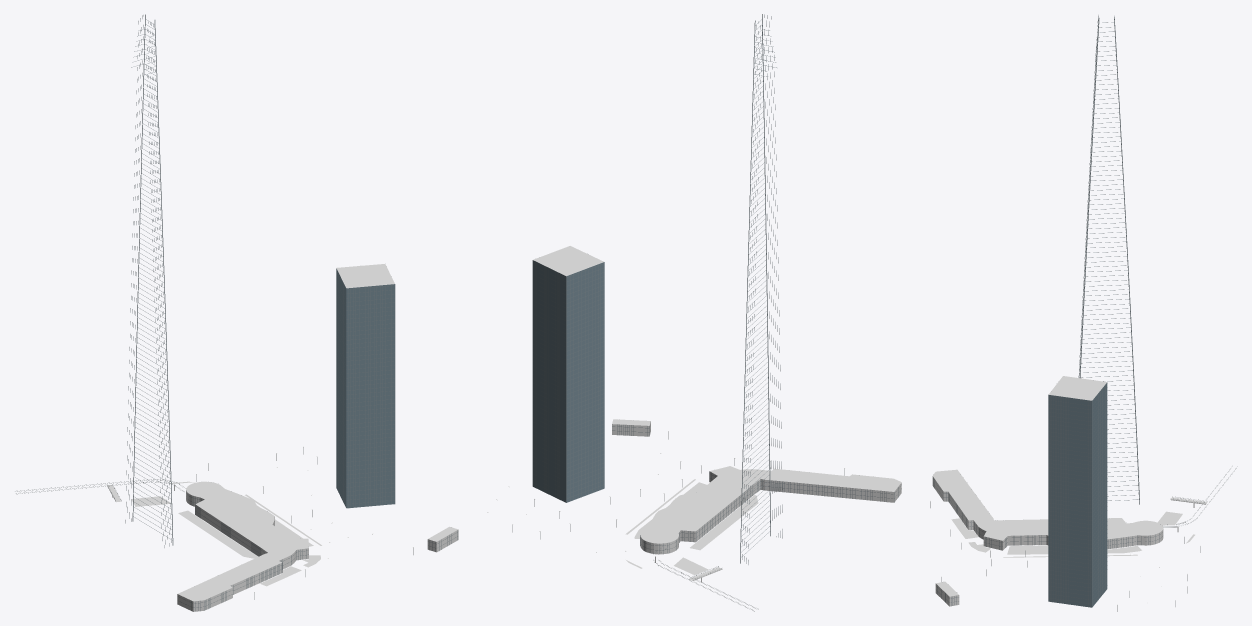
The picture shows the model from 3 angles, left to right: view 1: azimuth 30°, elevation 25°; view 2: azimuth 150°, elevation 25°; view 3: azimuth 270°, elevation 25°; orthographic projection. The views are drawn at different scales.
Parts seen in each view (by area): view 1: 3_-3_超高层蓝灰幕墙, 3_-3_城市金属细框, 3_-3_v02 深灰屋面, 3_-3_v02 米白石材, 3_-3_v02 草地; view 2: 3_-3_超高层蓝灰幕墙, 3_-3_城市金属细框, 3_-3_v02 深灰屋面, 3_-3_v02 米白石材, 3_-3_v02 草地; view 3: 3_-3_超高层蓝灰幕墙, 3_-3_城市金属细框, 3_-3_v02 深灰屋面, 3_-3_v02 米白石材, 3_-3_v02 草地.
Boxes of the visible parts, x1,y1,x2,y2 form: 3_-3_超高层蓝灰幕墙: [336, 268, 394, 508]; 3_-3_城市金属细框: [125, 14, 457, 611]; 3_-3_v02 深灰屋面: [178, 264, 458, 601]; 3_-3_v02 米白石材: [177, 490, 458, 611]; 3_-3_v02 草地: [131, 481, 321, 586]; 3_-3_超高层蓝灰幕墙: [532, 260, 604, 502]; 3_-3_城市金属细框: [533, 14, 901, 564]; 3_-3_v02 深灰屋面: [533, 246, 901, 543]; 3_-3_v02 米白石材: [612, 421, 901, 554]; 3_-3_v02 草地: [625, 479, 758, 574]; 3_-3_超高层蓝灰幕墙: [1048, 382, 1107, 607]; 3_-3_城市金属细框: [933, 15, 1162, 607]; 3_-3_v02 深灰屋面: [933, 376, 1163, 596]; 3_-3_v02 米白石材: [932, 476, 1163, 606]; 3_-3_v02 草地: [951, 511, 1194, 557].
Bounding box in the file's own units: 303 × 492 × 282.
